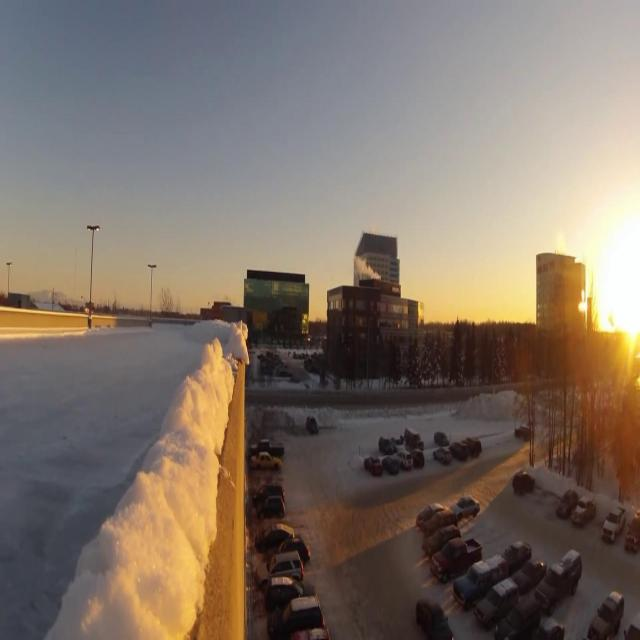fire: (610, 258, 637, 382)
